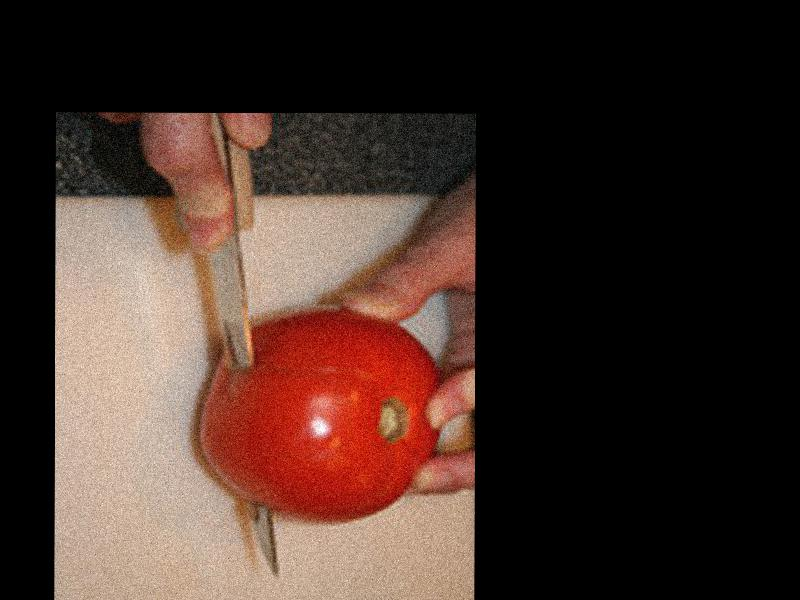Tomato: (200, 310, 442, 526)
